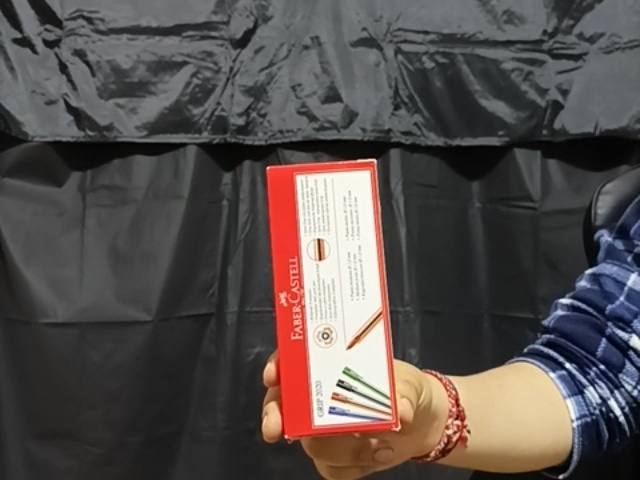xd: (261, 161, 401, 435)
